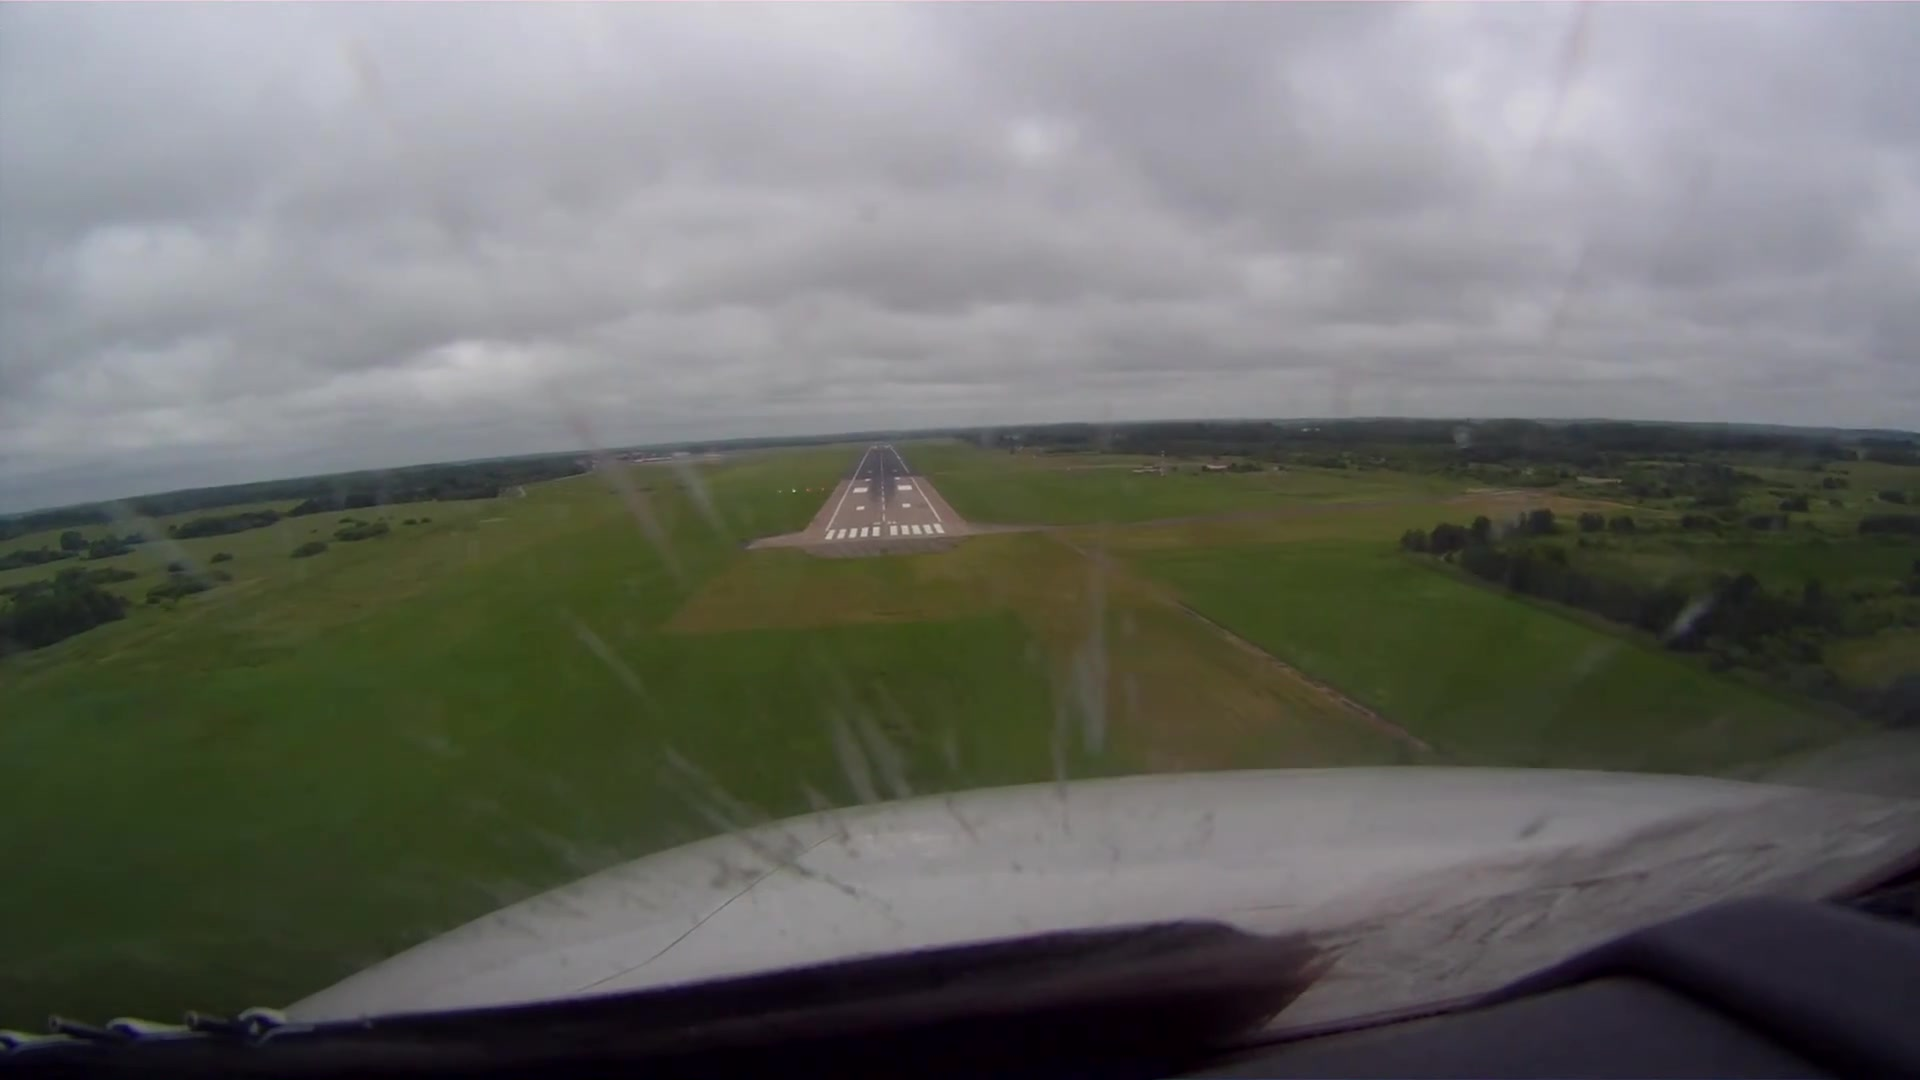entrance: (825, 524, 945, 541)
runway: (819, 443, 951, 547)
